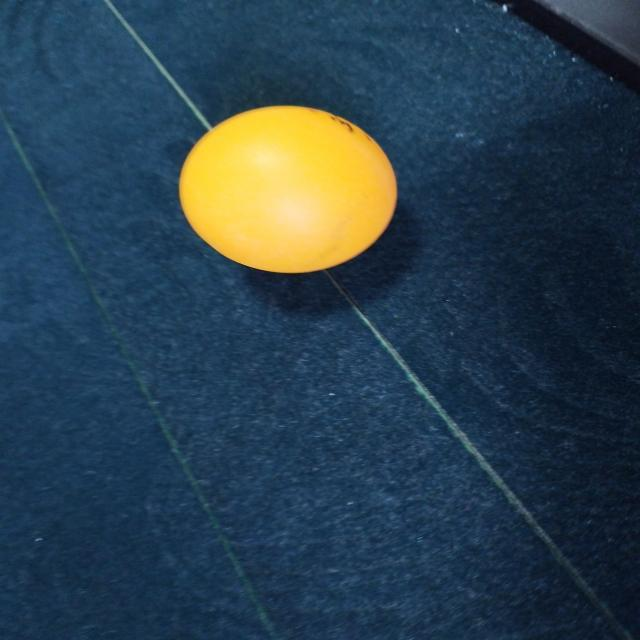oball: (180, 106, 398, 272)
